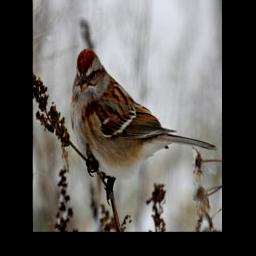Sparrow: (69, 47, 217, 202)
